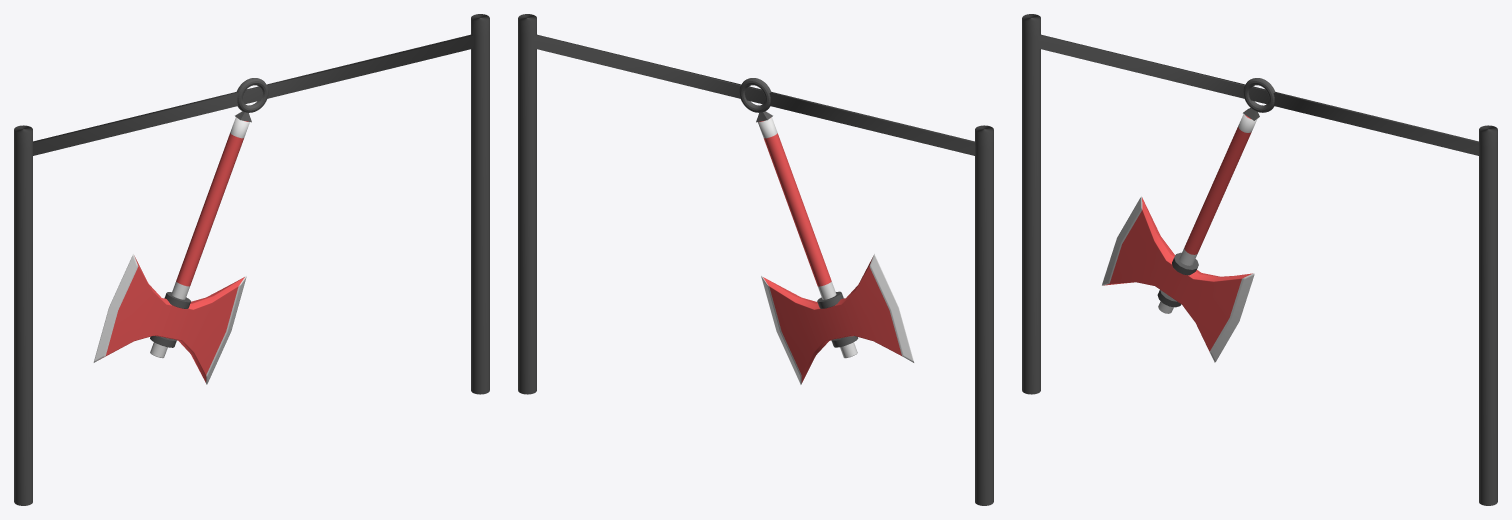
Rendered from trap_2.fbx.
The picture shows the model from 3 angles, left to right: view 1: azimuth 30°, elevation 25°; view 2: azimuth 150°, elevation 25°; view 3: azimuth 330°, elevation 25°; orthographic projection.
Parts seen in each view (by area): view 1: Cylinder, Axe.001; view 2: Cylinder, Axe.001; view 3: Cylinder, Axe.001.
Boxes of the visible parts, x1,y1,x2,y2 form: Cylinder: [14, 14, 489, 505]; Axe.001: [93, 78, 268, 384]; Cylinder: [518, 14, 993, 505]; Axe.001: [739, 78, 914, 384]; Cylinder: [1022, 14, 1497, 505]; Axe.001: [1101, 78, 1275, 362].
Size of the model in its own units: 3876 by 2917 by 186.
